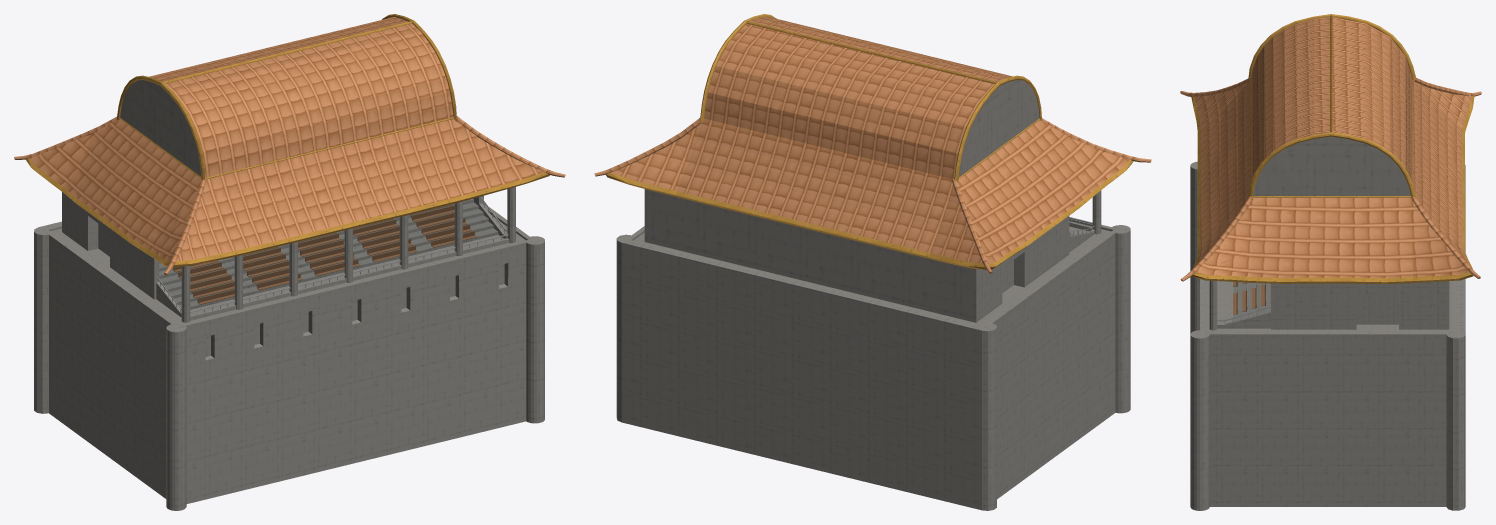
The model's file is SM_ENV_TCHEXA_Building_B.fbx.
3 views of the same model, side by side, from view 1: azimuth 30°, elevation 25°; view 2: azimuth 150°, elevation 25°; view 3: azimuth 270°, elevation 25° (orthographic). The views are drawn at different scales.
Parts seen in each view (by area): view 1: SM_ENV_TCHEXA_Building_B.mo; view 2: SM_ENV_TCHEXA_Building_B.mo; view 3: SM_ENV_TCHEXA_Building_B.mo.
Boxes of the visible parts, x1,y1,x2,y2 form: SM_ENV_TCHEXA_Building_B.mo: (14,14,565,510); SM_ENV_TCHEXA_Building_B.mo: (594,14,1151,510); SM_ENV_TCHEXA_Building_B.mo: (1180,14,1481,510).
Size of the model in its own units: 4337 by 3735 by 2923.
